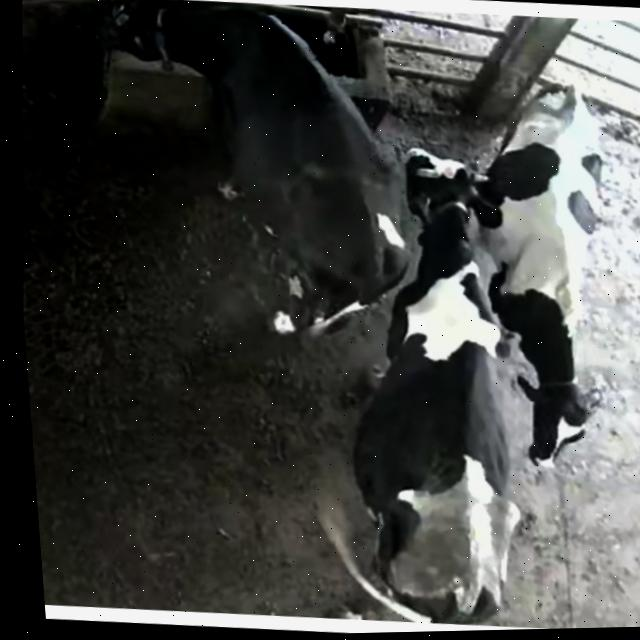drink: (94, 0, 307, 110)
